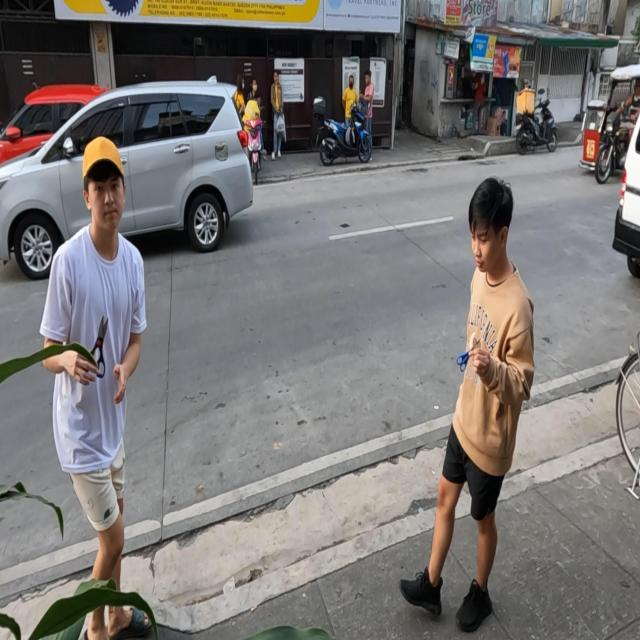scissor: (84, 309, 111, 380), (455, 333, 484, 372)
